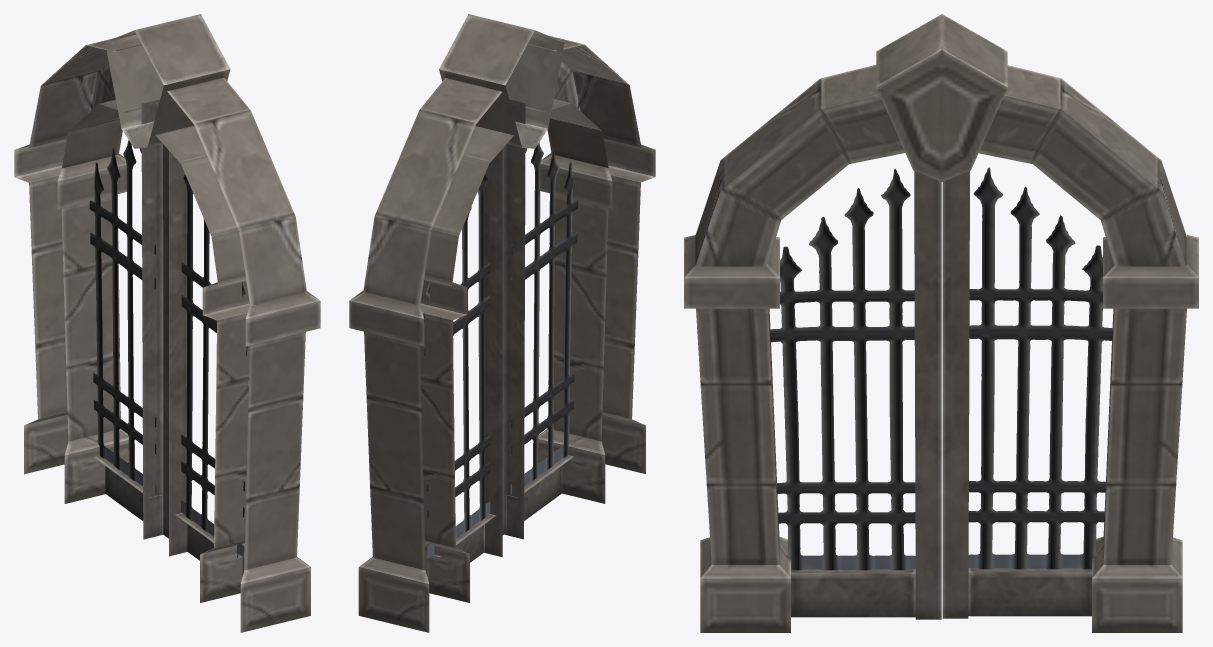
Rendered from door_4.FBX.
The picture shows the model from 3 angles, left to right: view 1: azimuth 30°, elevation 25°; view 2: azimuth 150°, elevation 25°; view 3: azimuth 270°, elevation 25°; orthographic projection. The views are drawn at different scales.
Parts seen in each view (by area): view 1: door_4; view 2: door_4; view 3: door_4.
Part boxes in pixels (x1,y1,x2,y2): door_4: (14, 14, 320, 632); door_4: (349, 14, 655, 632); door_4: (684, 14, 1198, 632).
Bounding box in the file's own units: 11.1 × 73.97 × 59.24.
